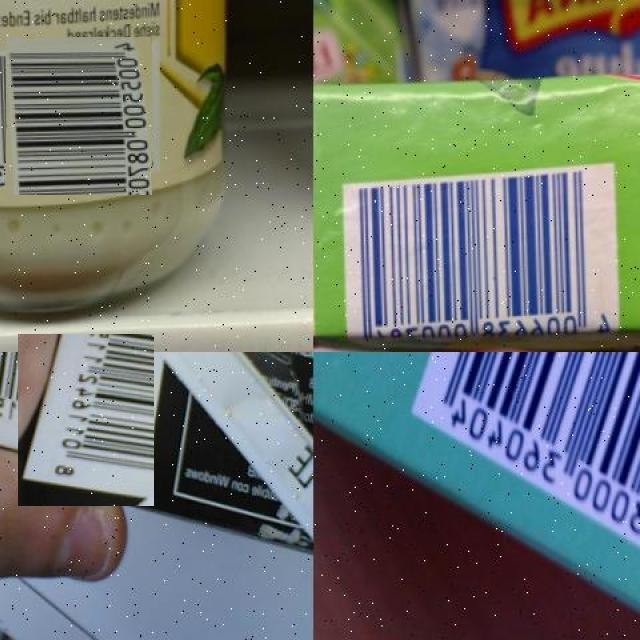Barcode: (405, 352, 640, 608), (340, 167, 612, 352), (9, 343, 163, 498), (3, 40, 156, 192)
